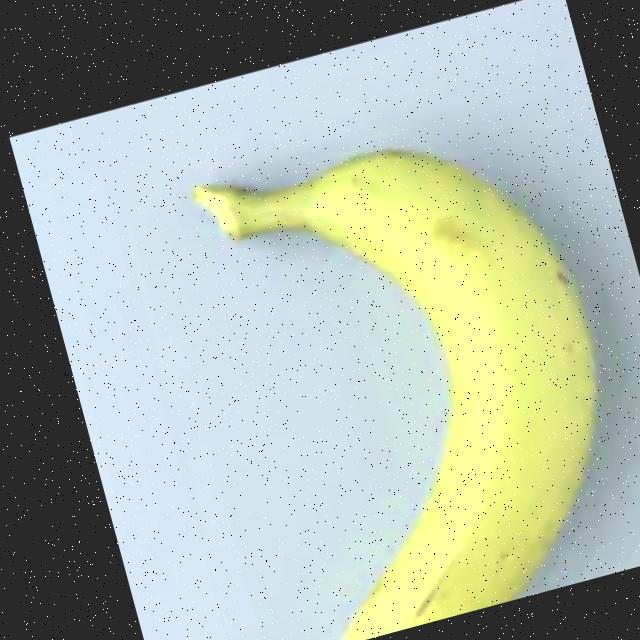Ripe: (105, 63, 640, 640)
